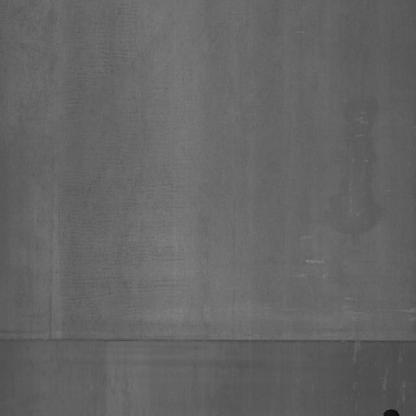punching_hole: (382, 403, 401, 416)
welding_line: (5, 316, 416, 364)
